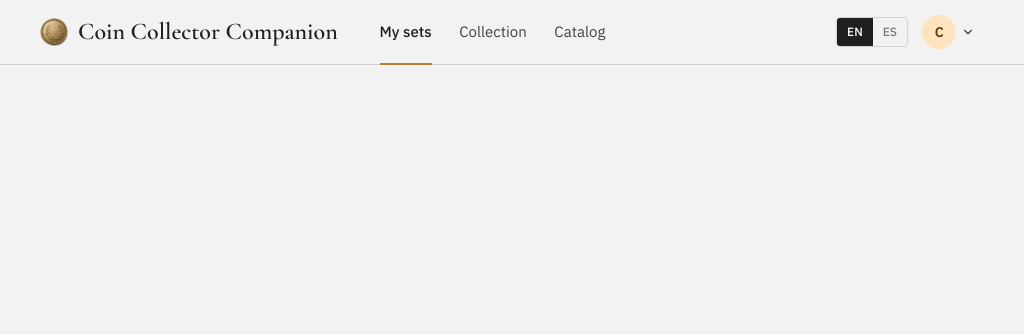
Test case: SiteNav › criterion 4: account menu wiring › closes the menu on Escape
Step 1. Click the button with test id "site-nav-account-trigger" → (951,32), box [917,10,984,54]
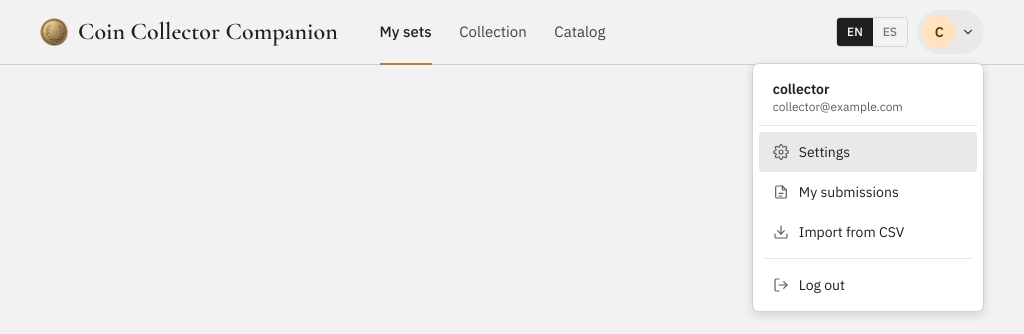
Step 2. Press Escape
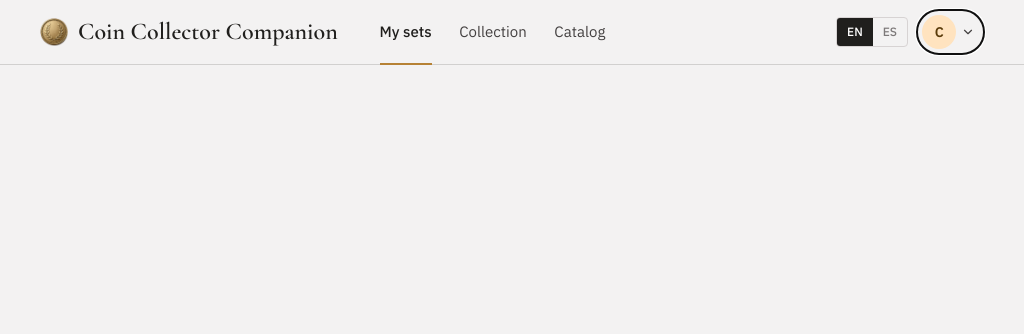
Result: the menu with test id "site-nav-account-menu" is gone
